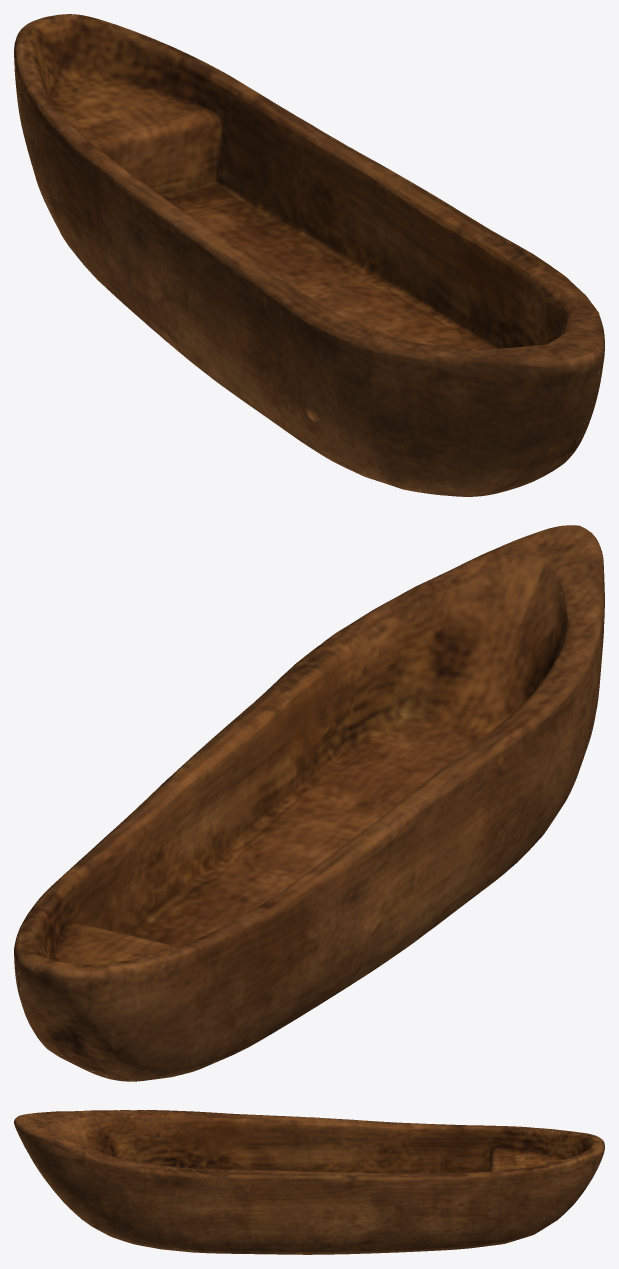
File: candidate.glb
3 views of the same model, one above another, from view 1: azimuth 30°, elevation 25°; view 2: azimuth 150°, elevation 25°; view 3: azimuth 270°, elevation 25° (orthographic). The views are drawn at different scales.
Parts seen in each view (by area): view 1: Mesh_0; view 2: Mesh_0; view 3: Mesh_0.
Part boxes in pixels (x1,y1,x2,y2): Mesh_0: (14, 14, 604, 496); Mesh_0: (14, 525, 604, 1081); Mesh_0: (14, 1110, 604, 1254).
Size of the model in its own units: 0.9973 by 0.9071 by 3.8.
1 material, 1 textured.
